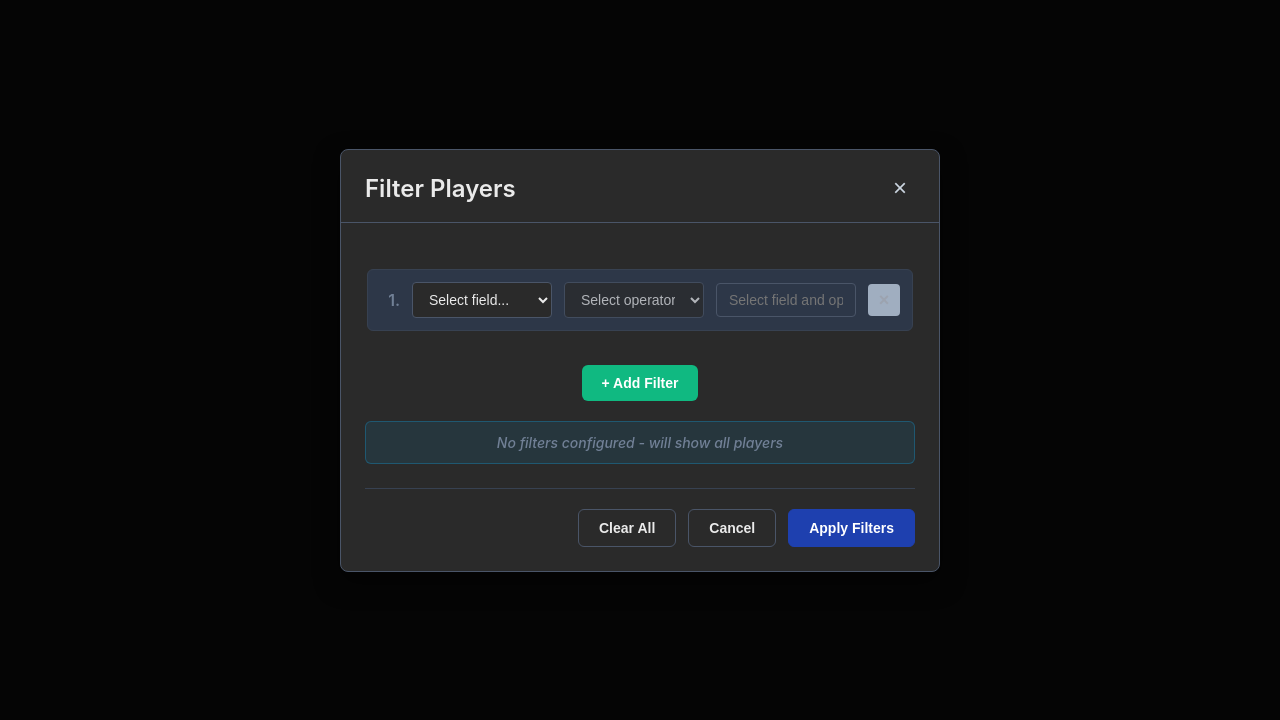
FilterModal Component › Filter Row Management › should remove filter row when remove button is clicked
Note: Add a second filter row first
Click the button "+ Add Filter".
click(640, 382)  # box left=582, top=364, right=698, bottom=400
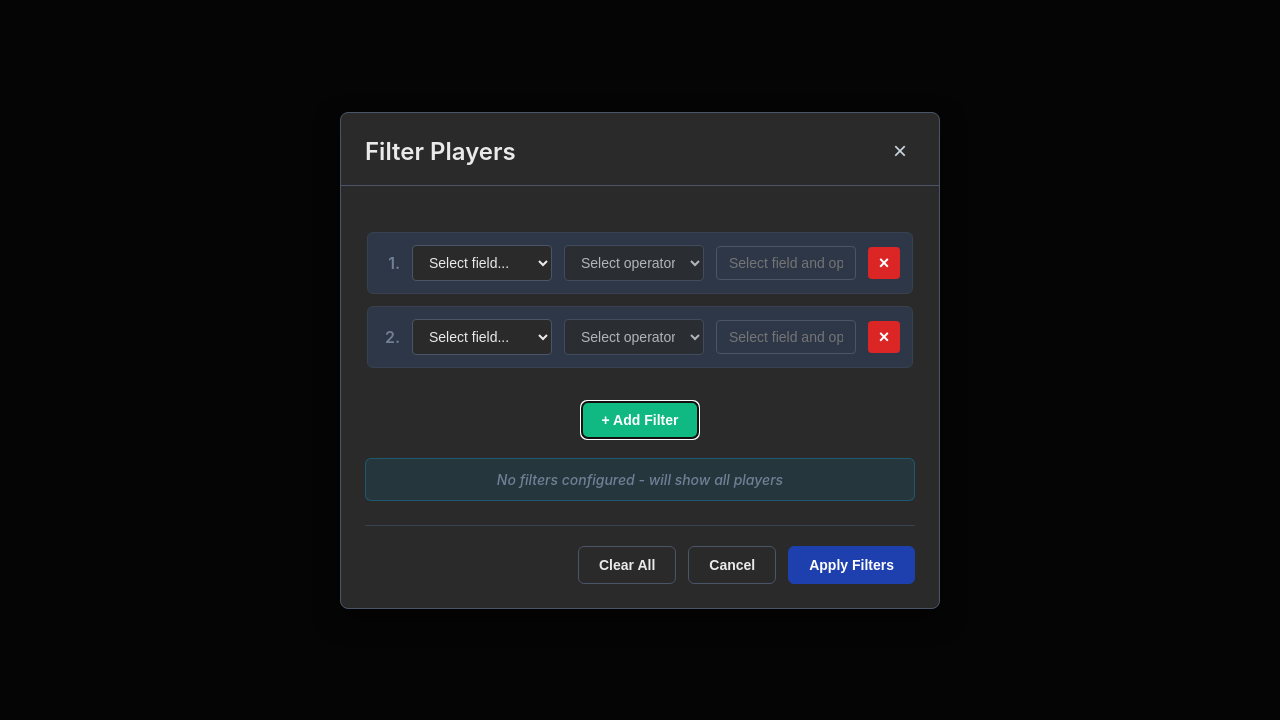
Now the text "2." is shown, box left=385, top=326, right=400, bottom=346
Note: Remove the first filter row
Click the button named "Remove filter".
click(884, 262)  # box left=868, top=246, right=900, bottom=278
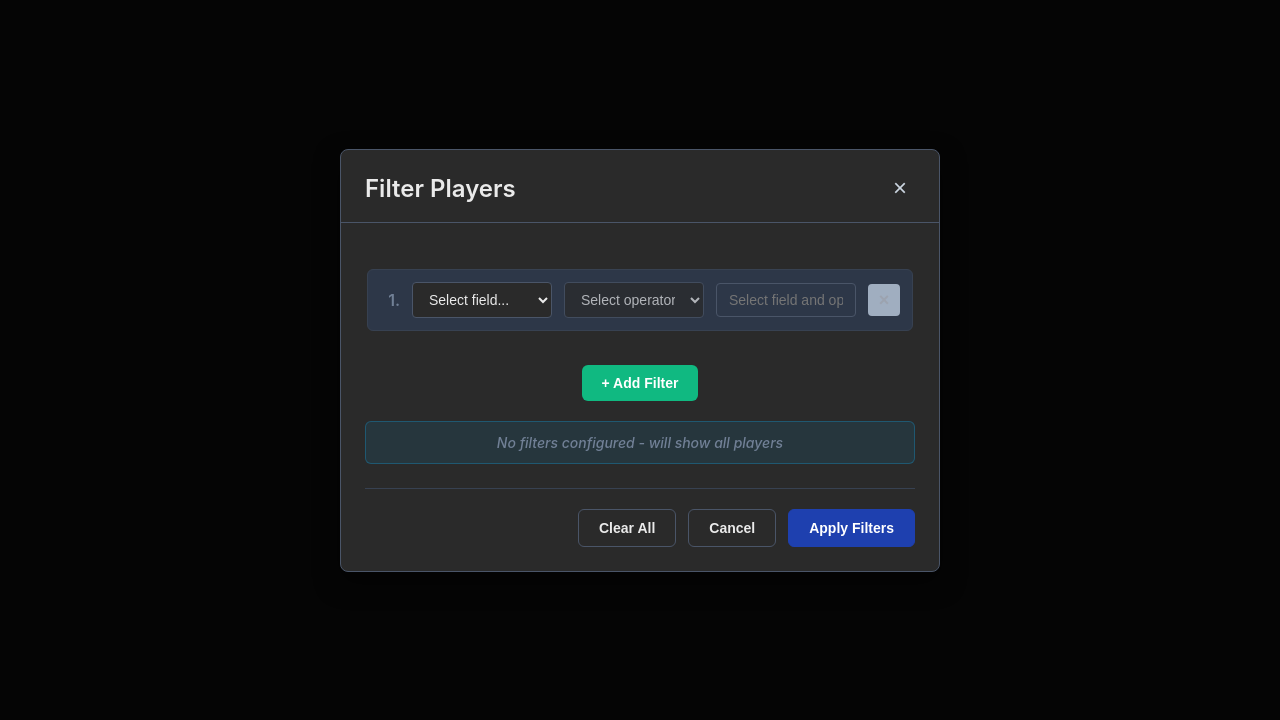
Now the text "2." is gone
Now the text "1." is shown, box left=388, top=290, right=400, bottom=310
